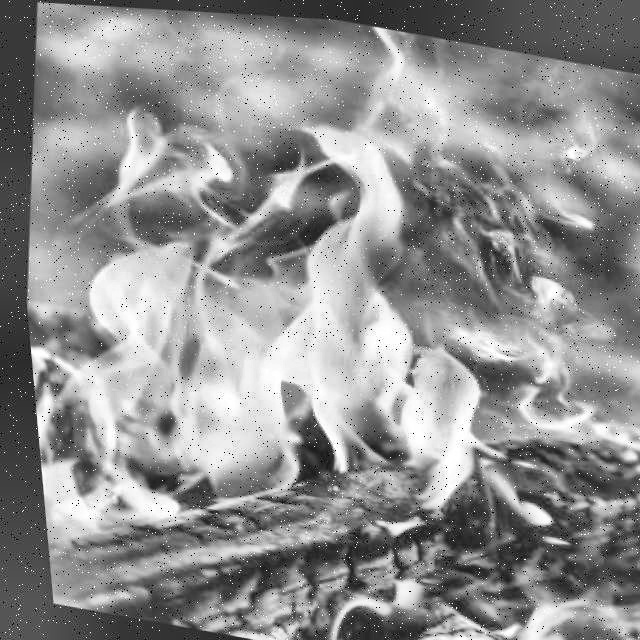Fire: (0, 0, 608, 640)
